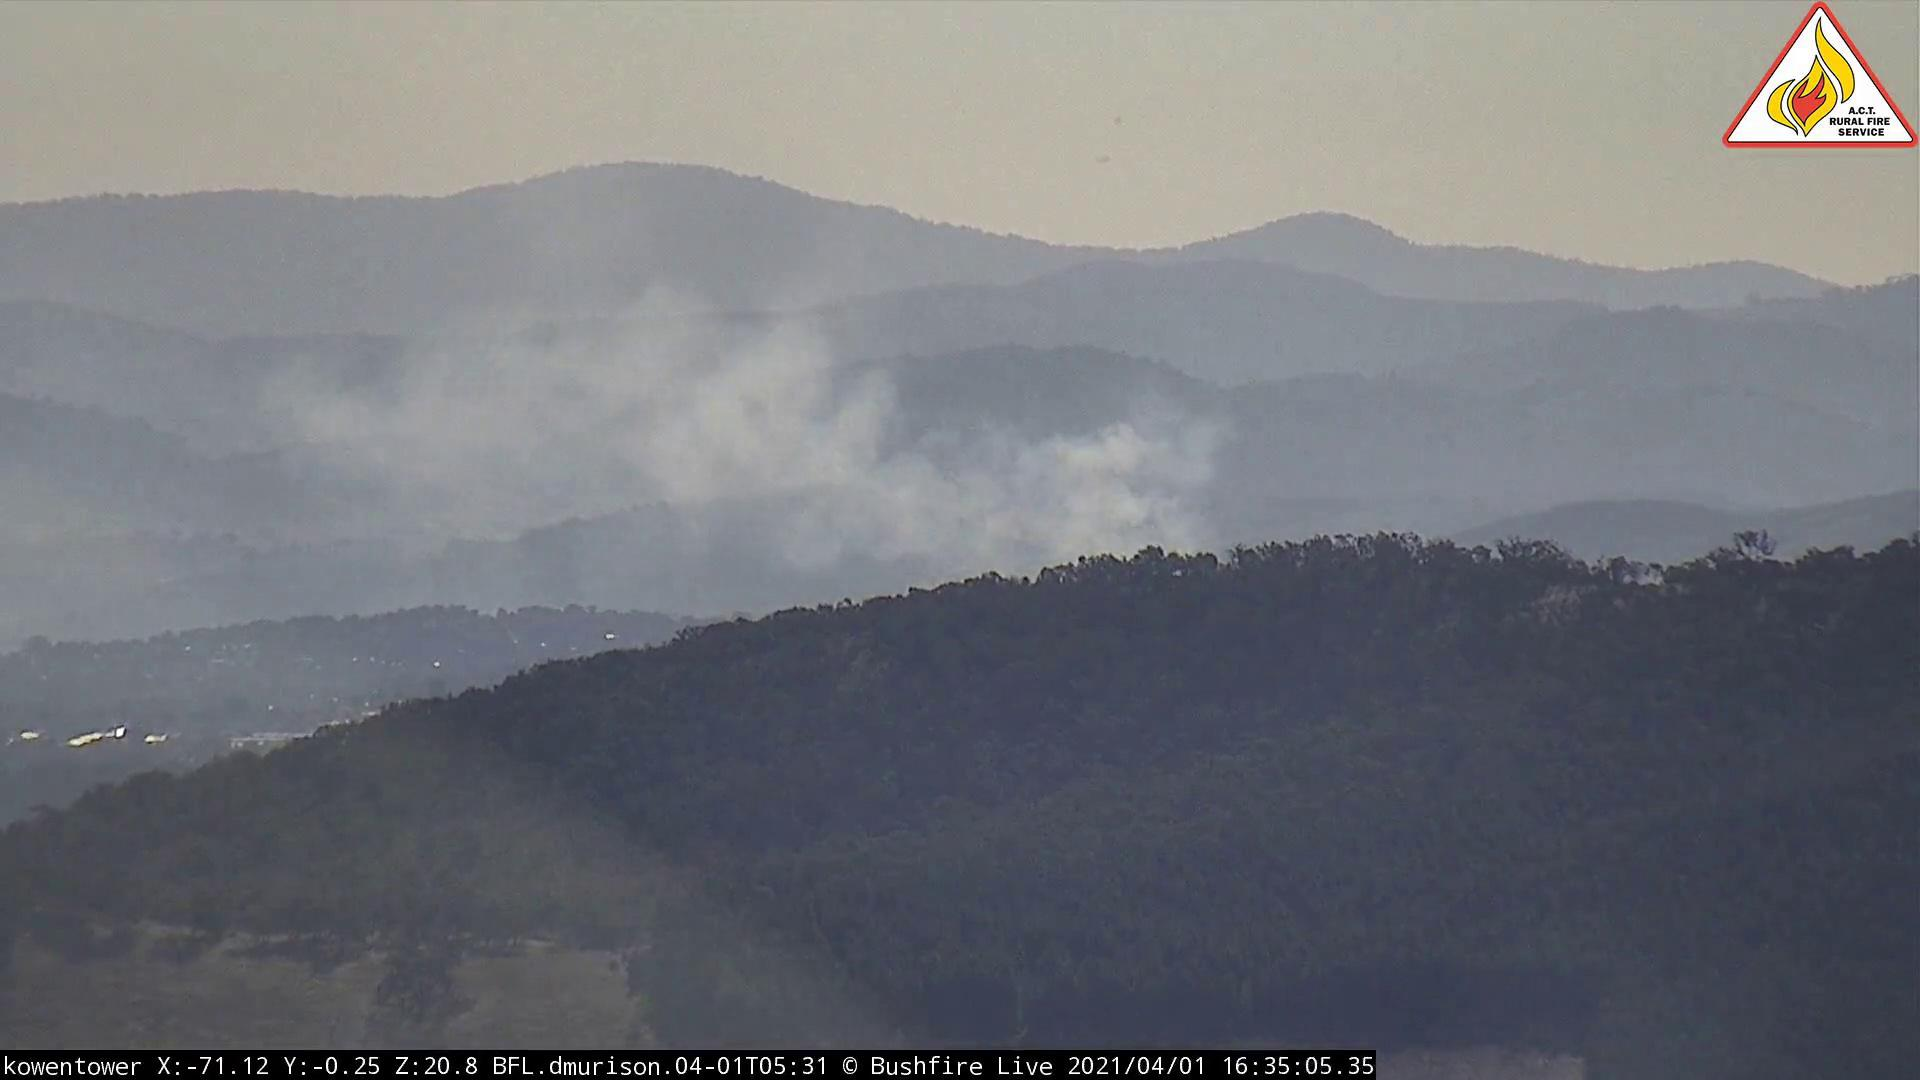Smoke: (276, 228, 1232, 638)
